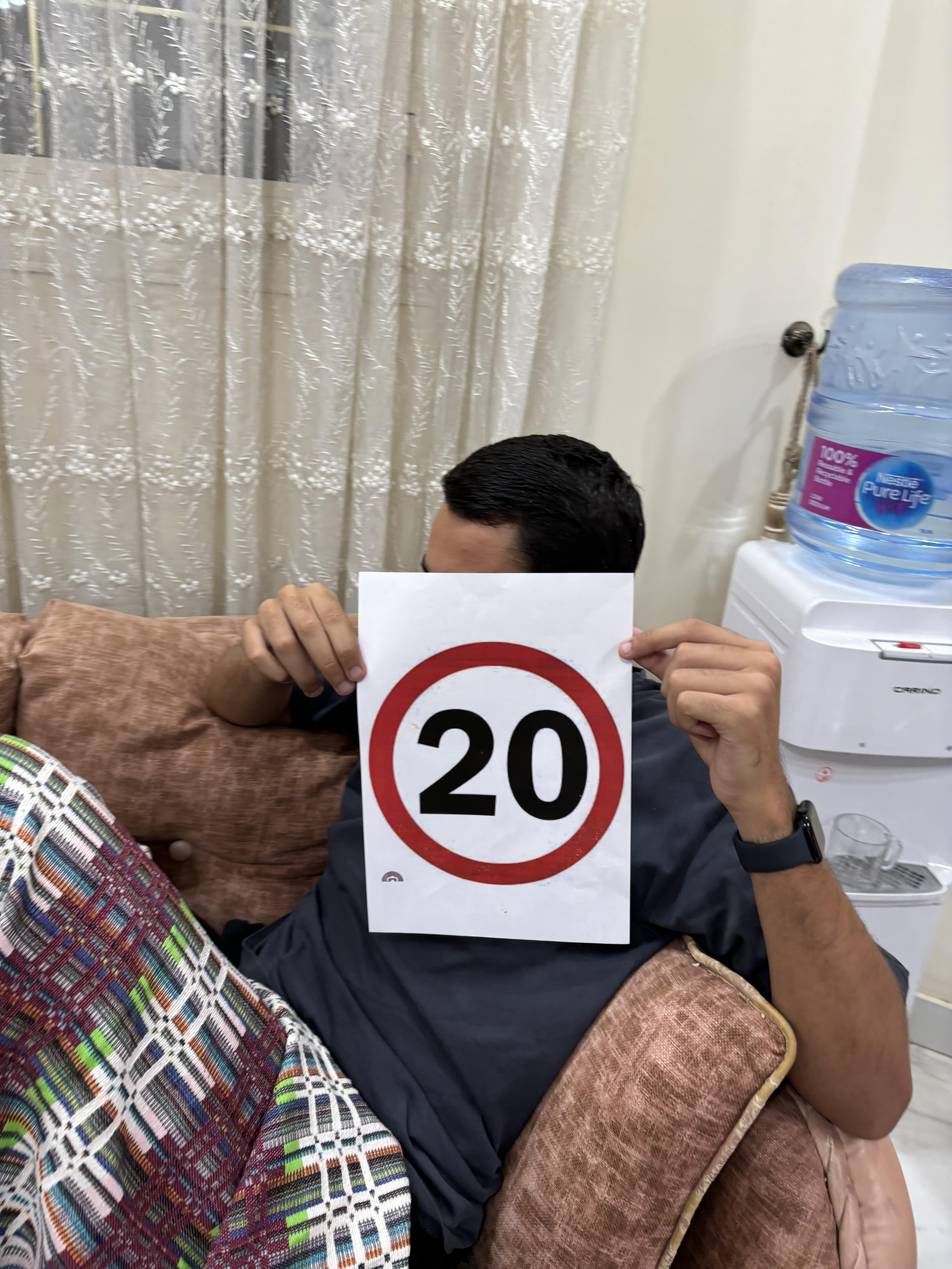20-Speed: (367, 638, 629, 885)
